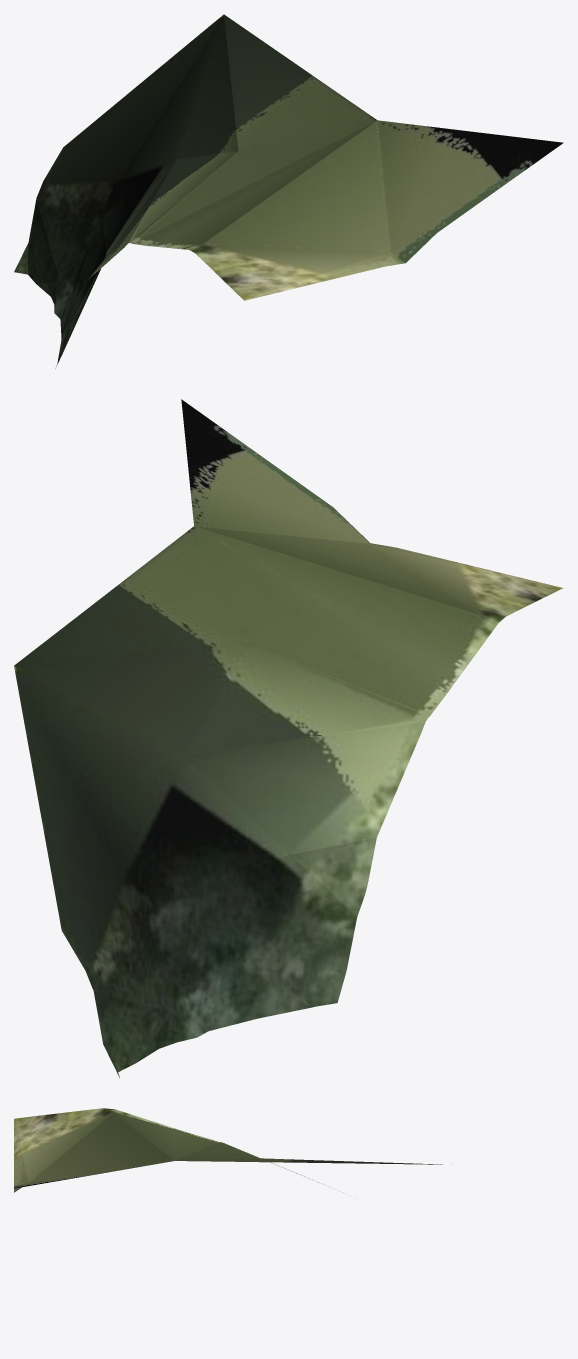
3 views of the same model, one above another, from view 1: azimuth 30°, elevation 25°; view 2: azimuth 150°, elevation 25°; view 3: azimuth 270°, elevation 25° (orthographic). The views are drawn at different scales.
Size of the model in its own units: 7.26 by 6.25 by 11.8.
2 materials, 2 textured.
